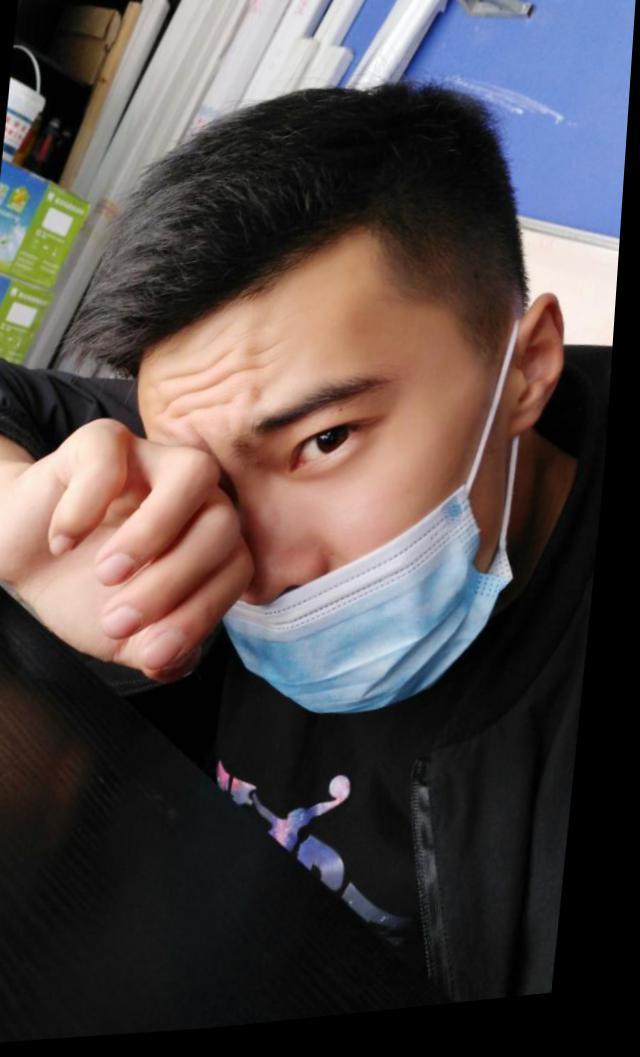WRONG: (109, 333, 514, 740)
